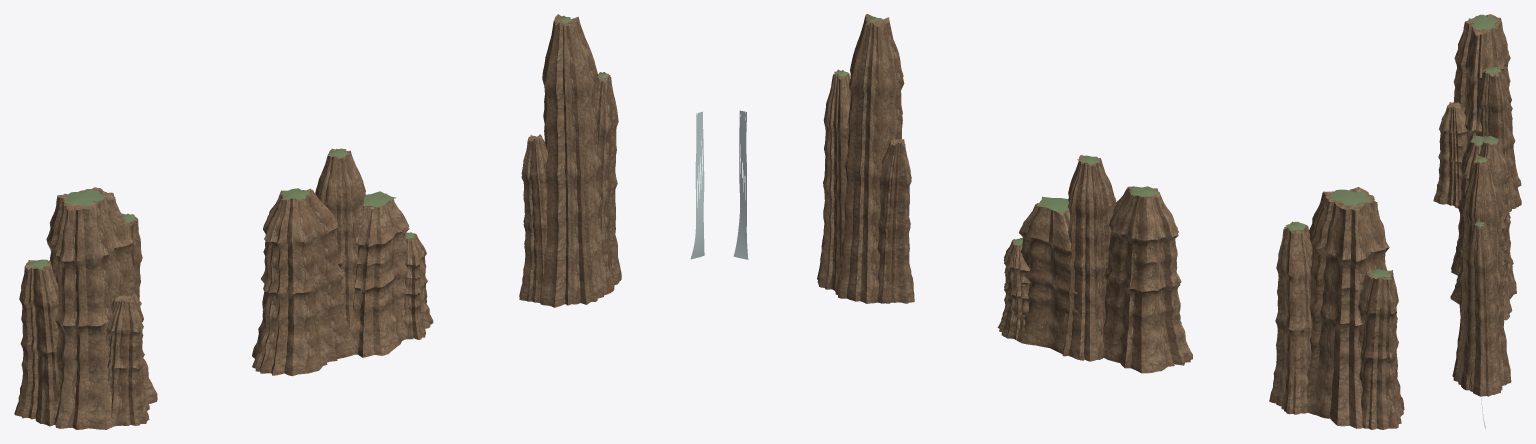
File: AsuraSanctuaryVista.glb
The picture shows the model from 3 angles, left to right: view 1: azimuth 30°, elevation 25°; view 2: azimuth 150°, elevation 25°; view 3: azimuth 270°, elevation 25°; orthographic projection. The views are drawn at different scales.
Parts seen in each view (by area): view 1: Vista_Ridge__Rock, Vista_Crown__Rock, Vista_Needle__Rock, Vista_Waterfall__Water, Vista_Ridge__Moss, Vista_Crown__Moss; view 2: Vista_Ridge__Rock, Vista_Crown__Rock, Vista_Needle__Rock, Vista_Waterfall__Water, Vista_Ridge__Moss, Vista_Crown__Moss; view 3: Vista_Needle__Rock, Vista_Crown__Rock, Vista_Ridge__Rock, Vista_Crown__Moss, Vista_Ridge__Moss.
Boxes of the visible parts, x1,y1,x2,y2 form: Vista_Ridge__Rock: [252, 148, 433, 376]; Vista_Crown__Rock: [14, 187, 157, 429]; Vista_Needle__Rock: [519, 14, 621, 307]; Vista_Waterfall__Water: [690, 111, 704, 259]; Vista_Ridge__Moss: [282, 148, 415, 239]; Vista_Crown__Moss: [27, 189, 136, 268]; Vista_Ridge__Rock: [997, 155, 1192, 373]; Vista_Crown__Rock: [1269, 187, 1404, 429]; Vista_Needle__Rock: [817, 14, 914, 303]; Vista_Waterfall__Water: [733, 110, 748, 259]; Vista_Ridge__Moss: [1013, 155, 1159, 244]; Vista_Crown__Moss: [1285, 189, 1391, 278]; Vista_Needle__Rock: [1452, 154, 1511, 396]; Vista_Crown__Rock: [1433, 14, 1521, 213]; Vista_Ridge__Rock: [1450, 136, 1516, 320]; Vista_Crown__Moss: [1468, 14, 1500, 73]; Vista_Ridge__Moss: [1470, 135, 1500, 194].
Size of the model in its own units: 582 by 224 by 82.44.
3 materials, 1 textured.
